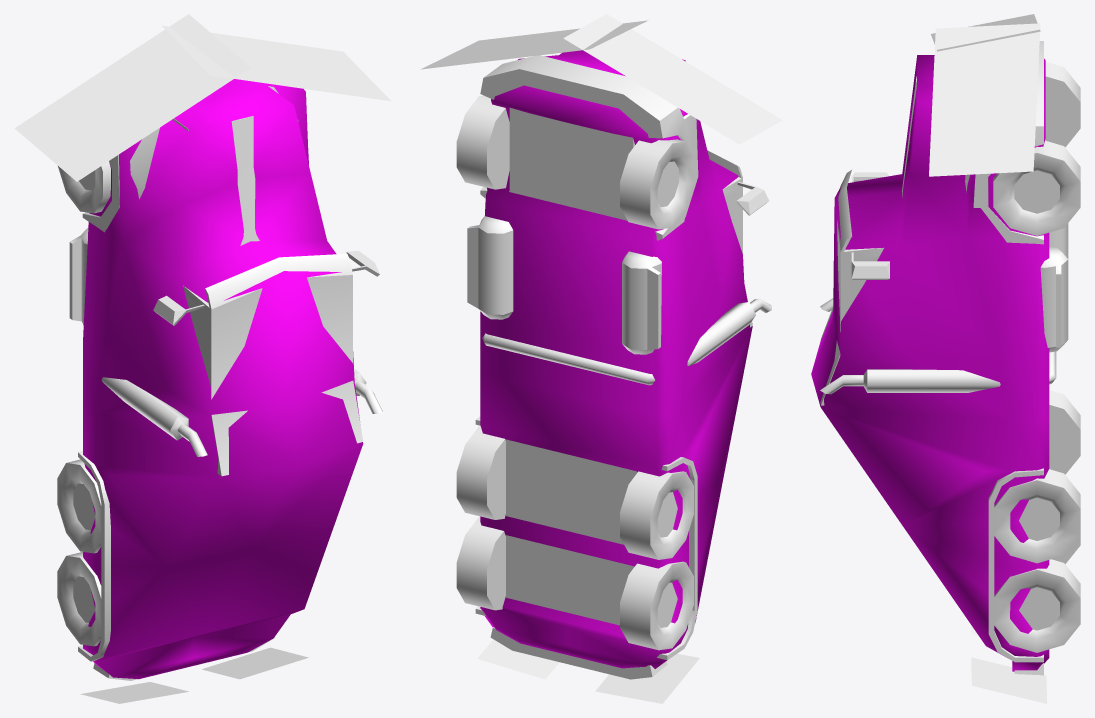
Rendered from BlackTruck.glb.
3 views of the same model, side by side, from view 1: azimuth 30°, elevation 25°; view 2: azimuth 150°, elevation 25°; view 3: azimuth 270°, elevation 25° (orthographic). The views are drawn at different scales.
Parts seen in each view (by area): view 1: BlackTruckProxy, BlackTruck, BlackTruckFrontLights, BlackTruckWheel_LB2, BlackTruckWheel_LB, BlackTruckRearLights, BlackTruckWheel_LF, BlackTruckGlass; view 2: BlackTruckProxy, BlackTruck, BlackTruckFrontLights, BlackTruckWheel_LF, BlackTruckWheel_LB2, BlackTruckWheel_LB, BlackTruckWheel_RF, BlackTruckWheel_RB2, BlackTruckRearLights, BlackTruckWheel_RB; view 3: BlackTruckProxy, BlackTruckFrontLights, BlackTruck, BlackTruckWheel_RF, BlackTruckWheel_RB2, BlackTruckWheel_RB, BlackTruckWheel_LF, BlackTruckWheel_LB2, BlackTruckRearLights.
Boxes of the visible parts, box(x1,y1,x2,y2) form: BlackTruckProxy: box(83, 79, 363, 679); BlackTruck: box(69, 86, 382, 680); BlackTruckFrontLights: box(14, 14, 390, 181); BlackTruckWheel_LB2: box(57, 459, 101, 553); BlackTruckWheel_LB: box(57, 552, 101, 646); BlackTruckRearLights: box(80, 647, 308, 703); BlackTruckWheel_LF: box(58, 161, 110, 213); BlackTruckGlass: box(185, 287, 209, 368); BlackTruckProxy: box(480, 50, 752, 668); BlackTruck: box(467, 55, 771, 679); BlackTruckFrontLights: box(420, 14, 782, 144); BlackTruckWheel_LF: box(620, 139, 694, 229); BlackTruckWheel_LB2: box(620, 471, 693, 559); BlackTruckWheel_LB: box(620, 561, 693, 650); BlackTruckWheel_RF: box(456, 95, 509, 189); BlackTruckWheel_RB2: box(456, 426, 505, 519); BlackTruckRearLights: box(477, 639, 699, 703); BlackTruckWheel_RB: box(456, 517, 505, 610); BlackTruckProxy: box(811, 55, 1049, 671); BlackTruckFrontLights: box(929, 14, 1040, 176); BlackTruck: box(820, 41, 1068, 675); BlackTruckWheel_RF: box(993, 140, 1080, 235); BlackTruckWheel_RB2: box(994, 469, 1080, 563); BlackTruckWheel_RB: box(994, 559, 1080, 652); BlackTruckWheel_LF: box(1045, 62, 1080, 147); BlackTruckWheel_LB2: box(1049, 390, 1080, 474); BlackTruckRearLights: box(971, 625, 1046, 703).
Size of the model in its own units: 4.7 by 9.03 by 3.46.
